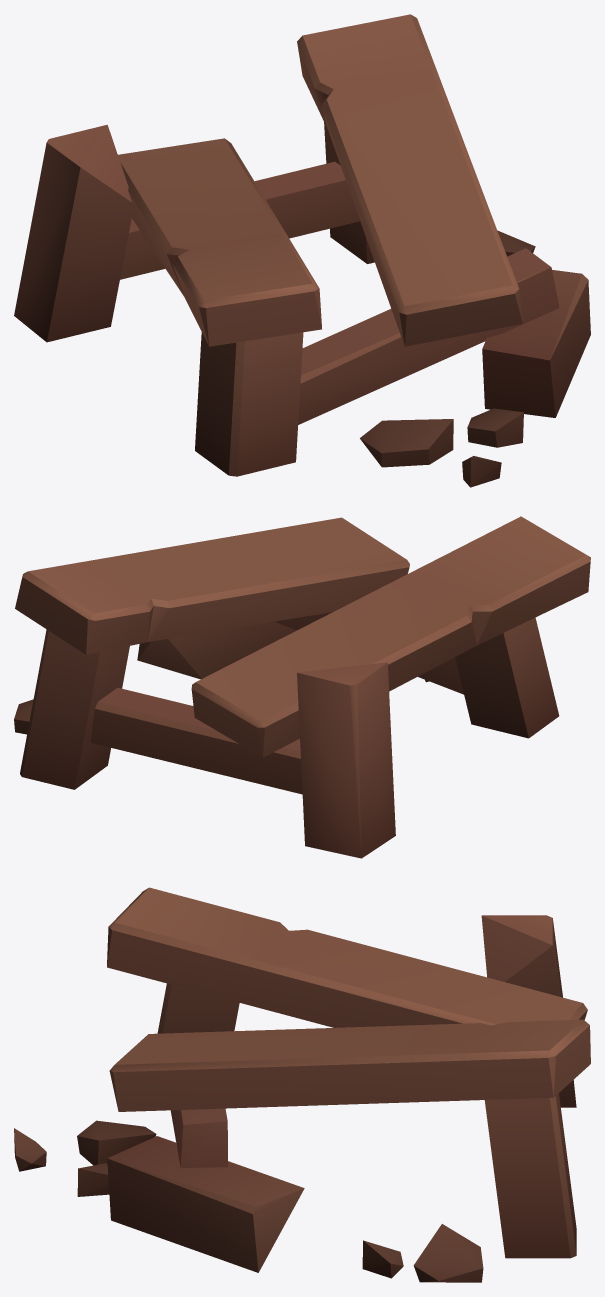
File: table-medium-broken.glb
The picture shows the model from 3 angles, top to bottom: view 1: azimuth 30°, elevation 25°; view 2: azimuth 150°, elevation 25°; view 3: azimuth 270°, elevation 25°; orthographic projection. The views are drawn at different scales.
Visible parts, largest first — view 1: table-medium-broken; view 2: table-medium-broken; view 3: table-medium-broken.
Part boxes in pixels (bbox=[...]): table-medium-broken: bbox=[14, 14, 590, 487]; table-medium-broken: bbox=[14, 516, 590, 858]; table-medium-broken: bbox=[14, 887, 590, 1282].
Size of the model in its own units: 1.76 by 0.75 by 1.87.
